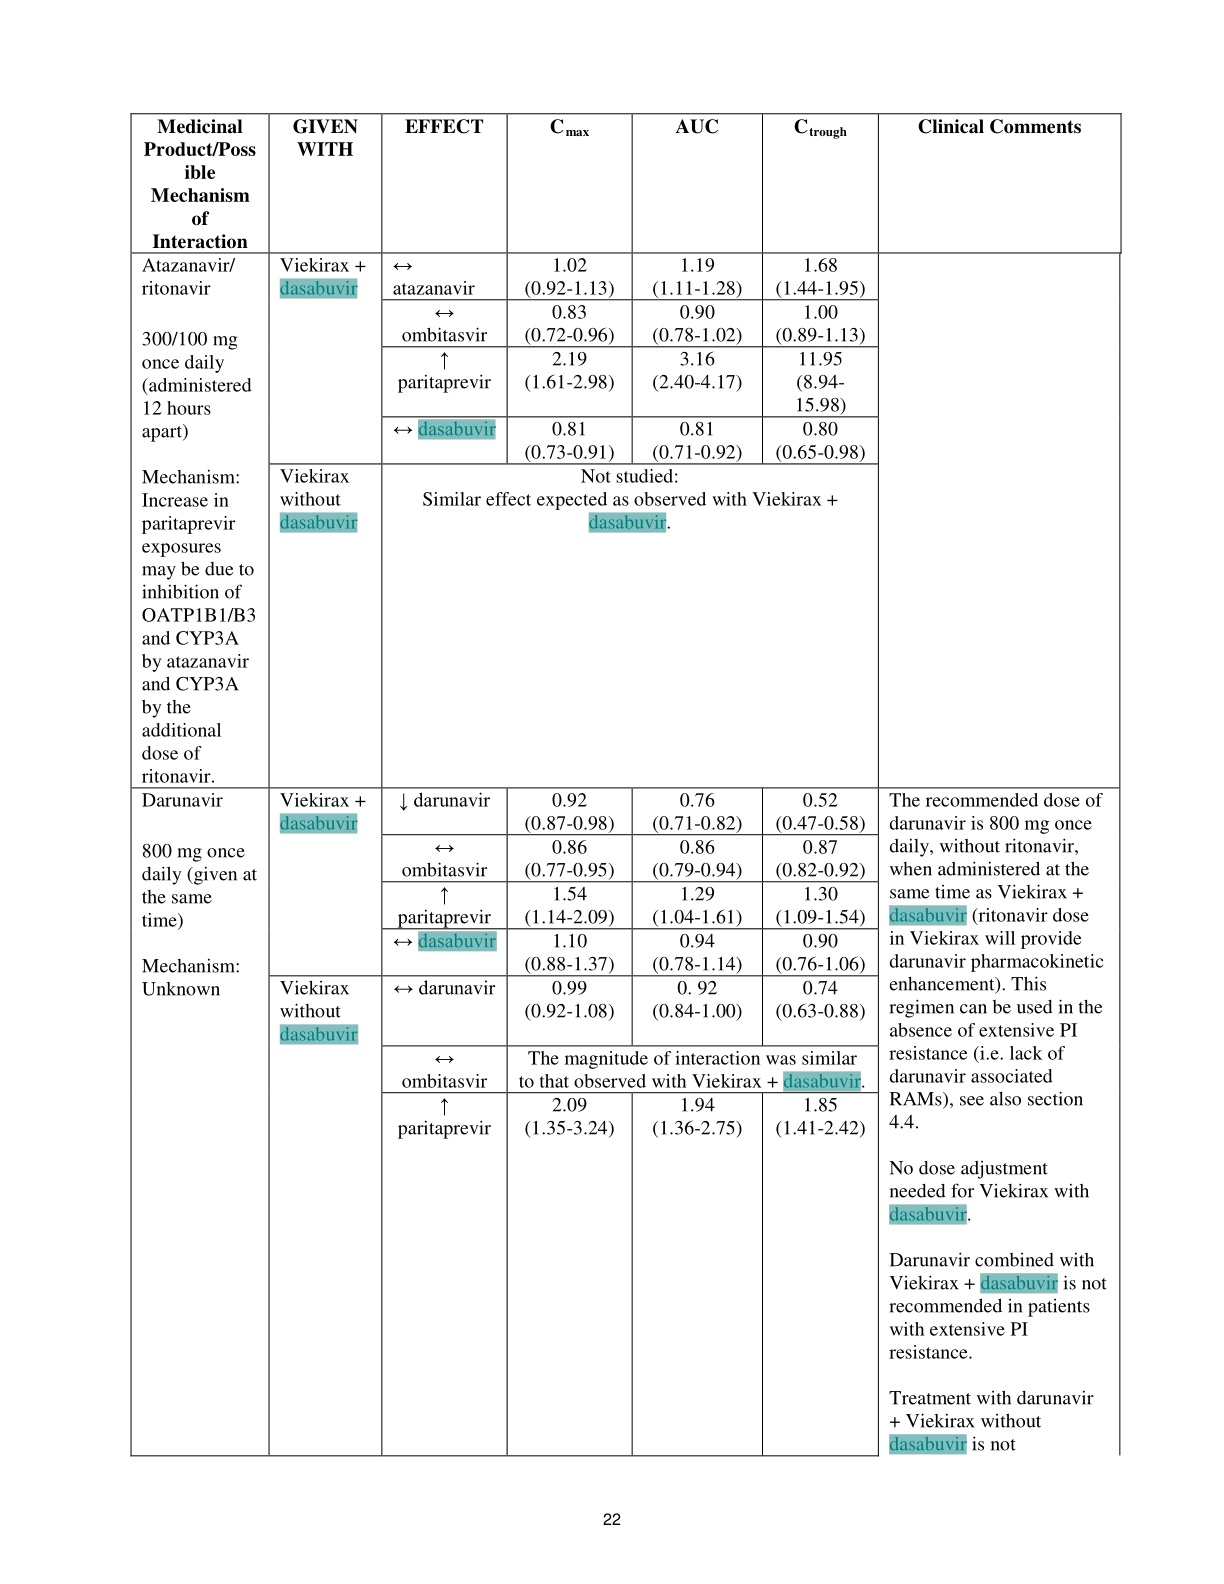partial_lined_merged_cells: (129, 111, 1124, 1462)
